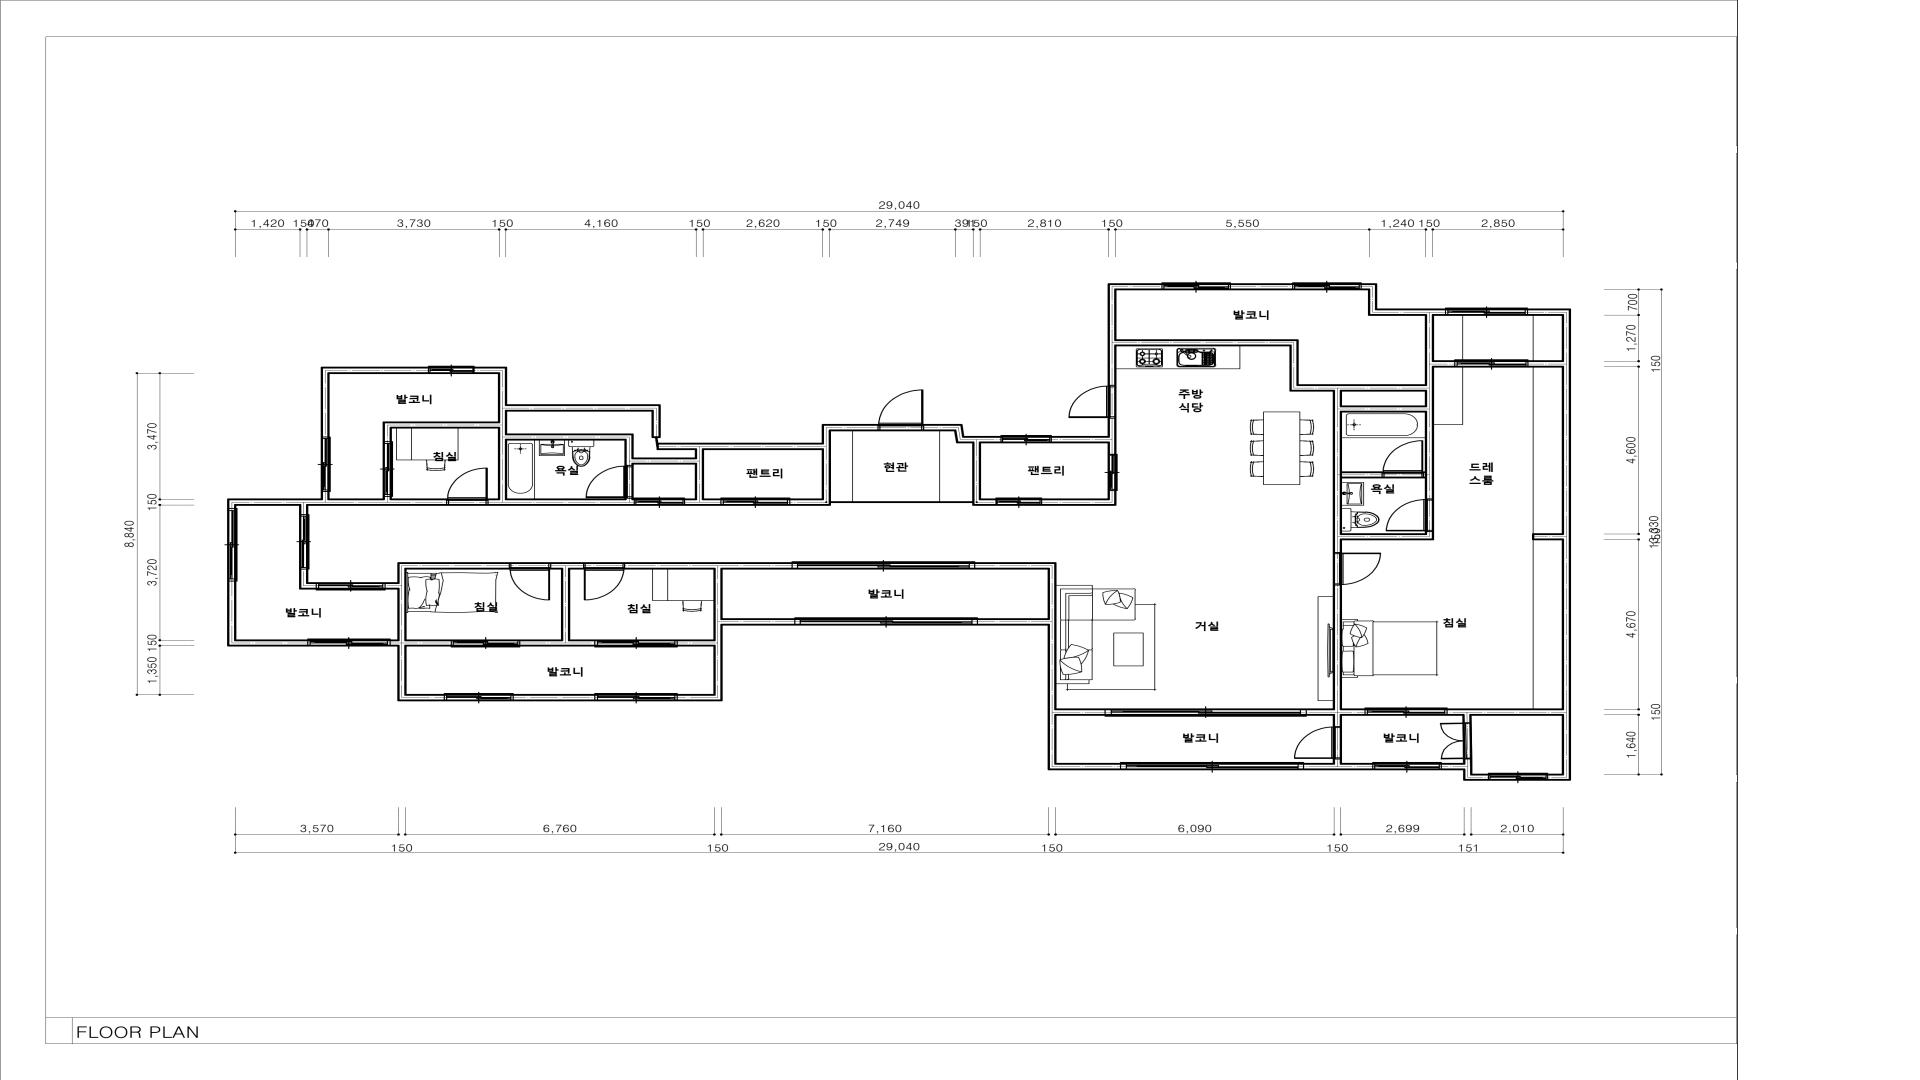door: (877, 389, 924, 431), (446, 467, 489, 506), (1333, 551, 1382, 585), (1068, 385, 1117, 419), (509, 562, 551, 601), (583, 562, 625, 601), (1382, 440, 1424, 479), (1294, 727, 1342, 760), (1386, 498, 1435, 531), (585, 465, 634, 498), (1440, 723, 1473, 760), (720, 497, 790, 506), (634, 497, 686, 506), (996, 497, 1042, 506), (1108, 454, 1118, 491)
wall: (1561, 316, 1571, 781), (654, 438, 831, 450), (1424, 316, 1435, 498), (1333, 392, 1342, 553), (1117, 339, 1299, 347), (1047, 618, 1056, 764), (625, 562, 791, 570), (1333, 585, 1342, 727), (489, 498, 634, 506), (330, 497, 446, 506), (1290, 384, 1424, 392), (508, 405, 661, 411), (1108, 284, 1117, 385), (497, 411, 508, 498), (1448, 708, 1561, 716), (1342, 531, 1435, 541), (406, 562, 509, 570), (330, 367, 427, 375), (508, 434, 624, 440), (382, 422, 497, 429), (236, 498, 330, 506), (560, 570, 571, 640), (397, 562, 406, 640), (713, 626, 723, 702), (1342, 405, 1424, 413), (320, 367, 330, 436), (976, 562, 1056, 570), (514, 694, 595, 702), (1042, 498, 1117, 506), (972, 443, 981, 506), (1377, 309, 1445, 316), (227, 582, 236, 640), (713, 618, 794, 625), (227, 640, 307, 646), (397, 640, 406, 694), (521, 640, 595, 646), (1047, 764, 1120, 770), (1304, 764, 1373, 770), (978, 618, 1047, 625), (1047, 570, 1056, 618), (713, 570, 723, 618), (822, 450, 831, 498), (695, 450, 704, 498), (1052, 436, 1117, 443), (1230, 284, 1292, 290), (634, 458, 695, 464), (497, 375, 508, 411), (1056, 708, 1105, 716), (831, 423, 877, 431), (397, 694, 443, 702), (1290, 347, 1299, 384), (955, 423, 972, 443), (1528, 309, 1571, 316), (624, 434, 634, 465), (790, 498, 831, 506), (1342, 471, 1382, 479), (1117, 284, 1162, 290), (407, 640, 451, 646), (678, 694, 713, 702), (686, 498, 720, 506), (475, 367, 508, 375), (1528, 360, 1561, 368), (551, 562, 583, 570), (651, 411, 661, 438), (1367, 290, 1377, 316), (924, 423, 955, 431), (678, 640, 713, 646), (1532, 533, 1561, 541), (1307, 708, 1333, 716), (972, 436, 1001, 443), (822, 423, 831, 443), (299, 570, 309, 589), (1342, 708, 1365, 716), (1462, 774, 1487, 781), (1108, 419, 1117, 436), (1435, 360, 1455, 368), (1462, 760, 1473, 774), (1441, 764, 1462, 770), (382, 429, 392, 442), (981, 498, 996, 506), (1362, 284, 1378, 290), (1108, 443, 1117, 454), (1548, 774, 1561, 781), (227, 498, 236, 508), (386, 582, 397, 589), (1108, 491, 1117, 498), (299, 506, 309, 514), (320, 492, 330, 498), (1462, 716, 1472, 723), (309, 582, 315, 589), (390, 640, 397, 646), (1333, 760, 1342, 764)
window: (1105, 708, 1307, 717), (794, 617, 978, 625), (791, 562, 976, 570), (1120, 762, 1304, 770), (227, 508, 237, 582), (1365, 707, 1448, 716), (1445, 307, 1528, 316), (1455, 359, 1528, 368), (307, 638, 390, 646), (595, 694, 678, 702), (595, 640, 678, 647), (315, 582, 385, 591), (382, 442, 393, 497), (320, 436, 331, 492), (299, 514, 310, 570), (451, 640, 521, 647), (444, 694, 514, 702), (1292, 282, 1362, 290), (1373, 762, 1441, 770), (1162, 282, 1230, 290), (1487, 773, 1548, 781), (427, 365, 475, 375), (1001, 435, 1052, 443)
